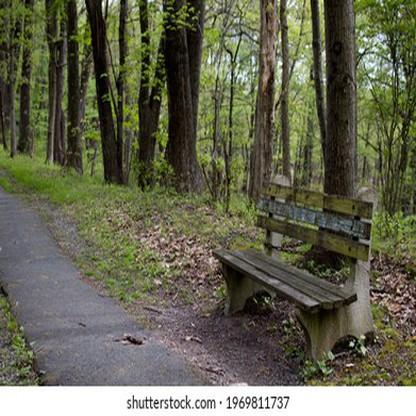obstacle: (213, 165, 375, 372)
